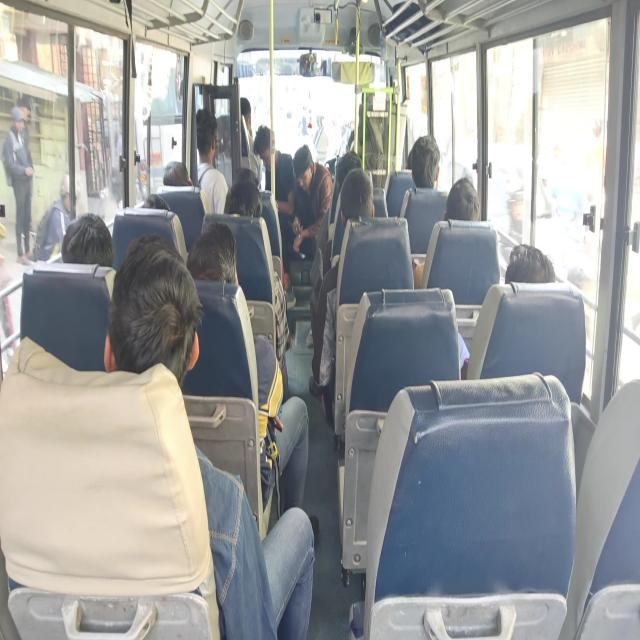person: (92, 218, 208, 383), (50, 200, 120, 275), (181, 230, 252, 288), (218, 180, 269, 234), (404, 124, 443, 194), (506, 243, 559, 293), (343, 165, 377, 235), (133, 176, 178, 228), (443, 175, 490, 224), (161, 158, 201, 195), (195, 108, 219, 168), (235, 153, 268, 196), (296, 144, 318, 203), (331, 153, 367, 185), (258, 118, 279, 166), (356, 82, 386, 114), (238, 96, 252, 144), (404, 148, 417, 175)
